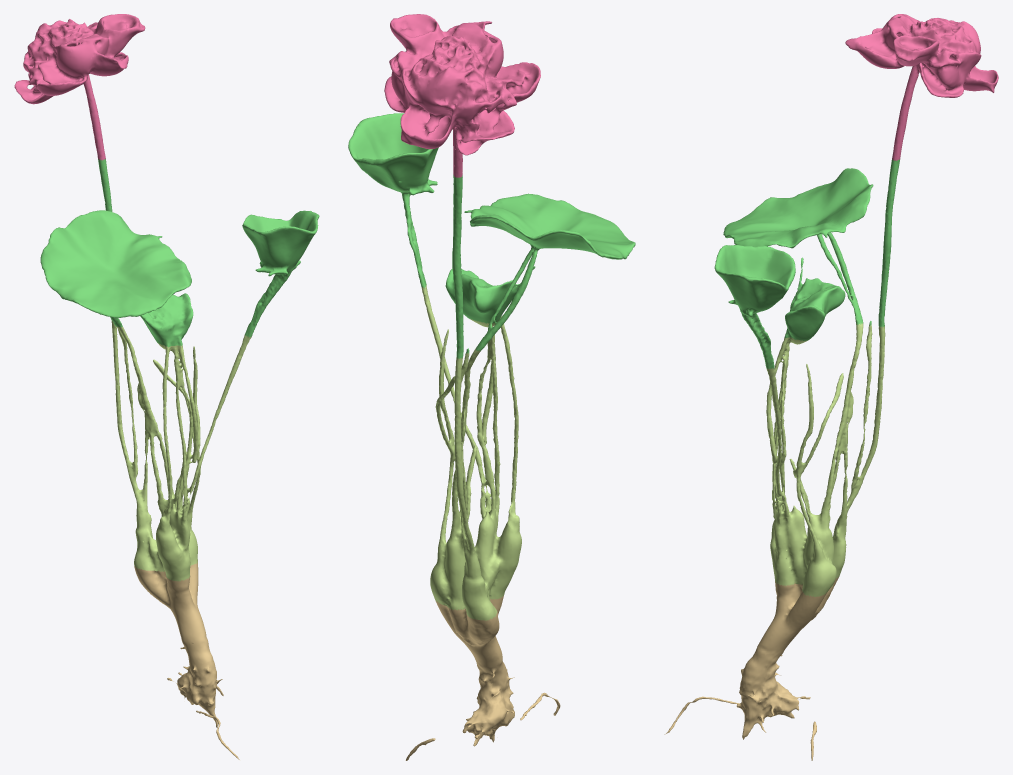
Rendered from lotus-root-parts_2026-06-14_pre-anatomical-recut.glb.
3 views of the same model, side by side, from view 1: azimuth 30°, elevation 25°; view 2: azimuth 150°, elevation 25°; view 3: azimuth 270°, elevation 25° (orthographic). The views are drawn at different scales.
Parts seen in each view (by area): view 1: leaf, stem, flower, root, core; view 2: leaf, stem, flower, root, core; view 3: leaf, stem, flower, root, core.
Part boxes in pixels (box(x1,y1,x2,y2)): leaf: box(40, 159, 319, 347); stem: box(111, 320, 251, 581); flower: box(14, 14, 145, 160); root: box(134, 561, 239, 759); core: box(52, 19, 93, 104); leaf: box(348, 113, 635, 358); stem: box(421, 285, 521, 620); flower: box(384, 14, 540, 177); root: box(405, 595, 560, 760); core: box(432, 36, 482, 69); leaf: box(714, 159, 899, 368); stem: box(766, 323, 885, 596); flower: box(845, 14, 998, 160); root: box(664, 576, 839, 760); core: box(905, 18, 947, 105).
Bounding box in the file's own units: 0.7648 × 1.98 × 0.8669.
